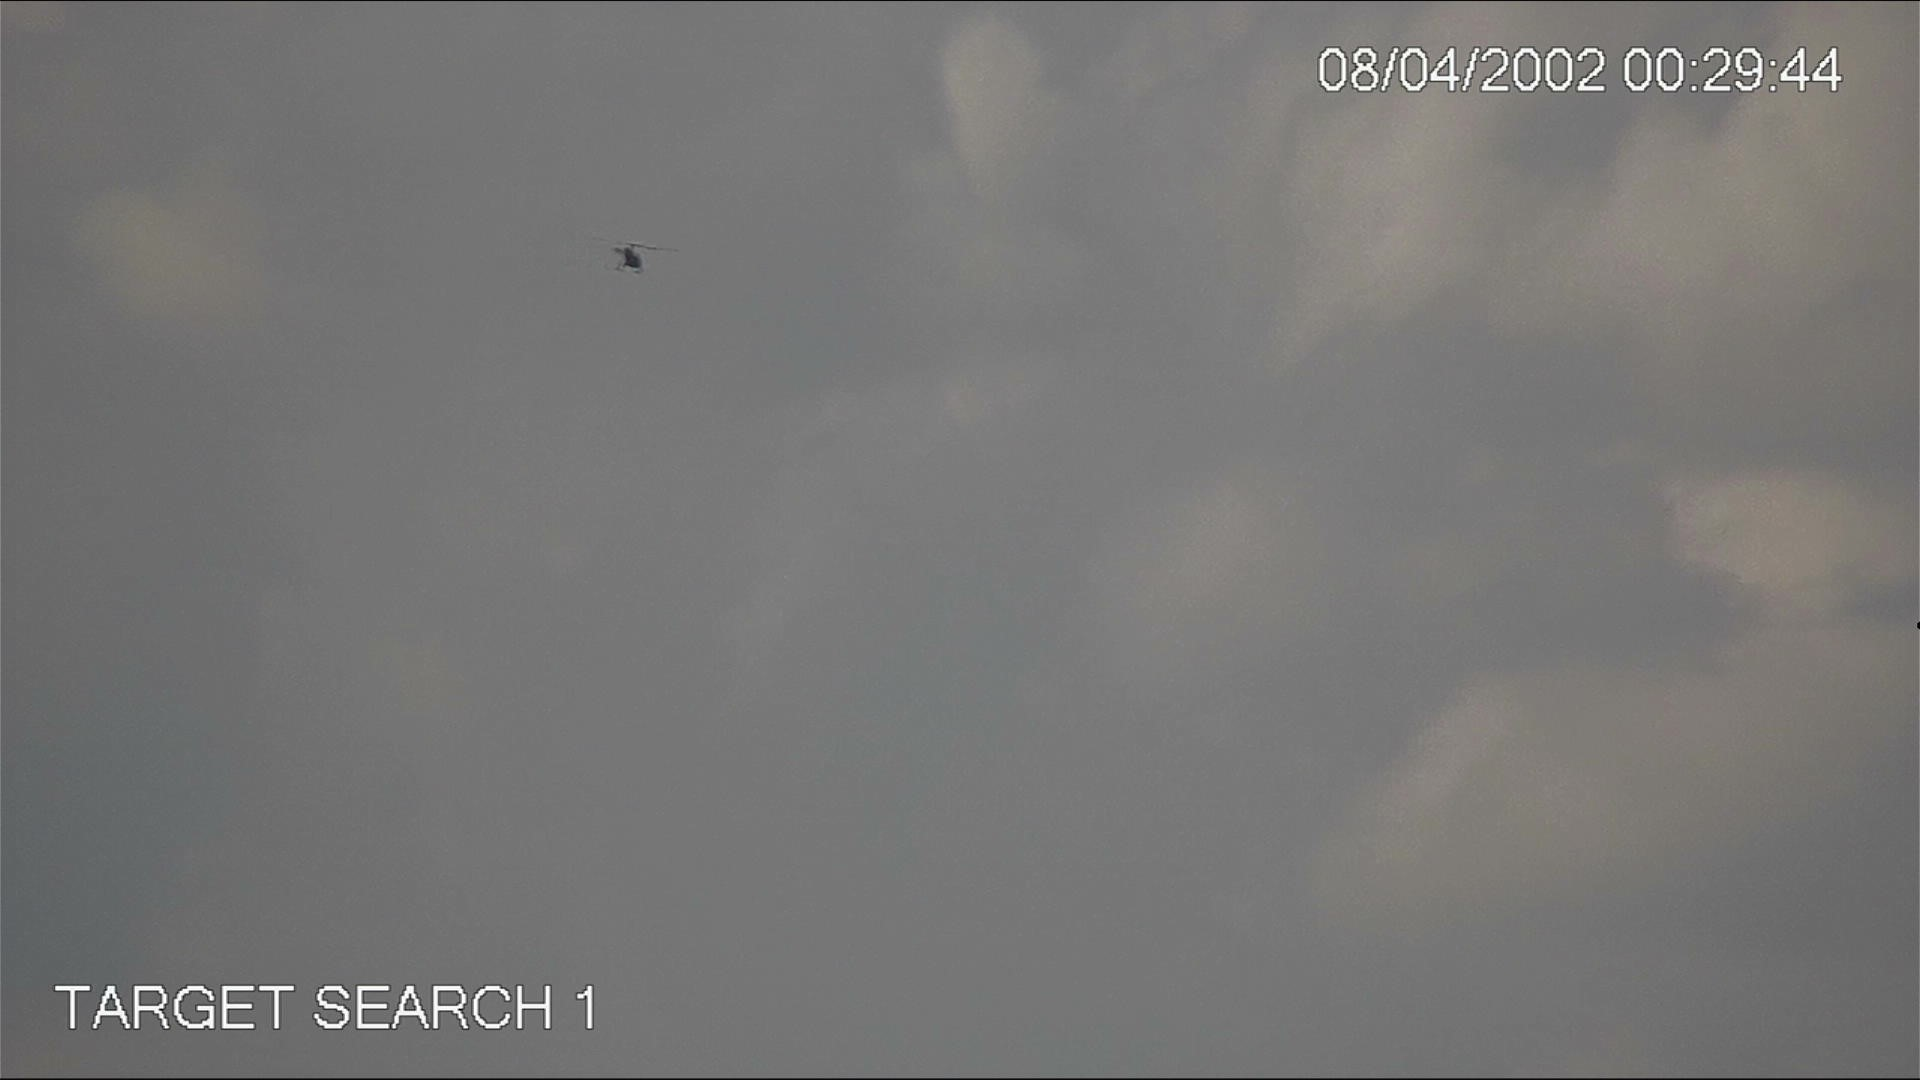SU_30: (600, 232, 663, 277)
